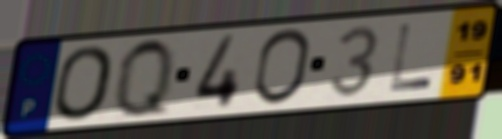3: (323, 23, 384, 100)
4: (190, 32, 243, 111)
L: (386, 22, 436, 95)
O: (51, 43, 118, 124), (250, 26, 314, 108)
Q: (113, 35, 176, 121)
